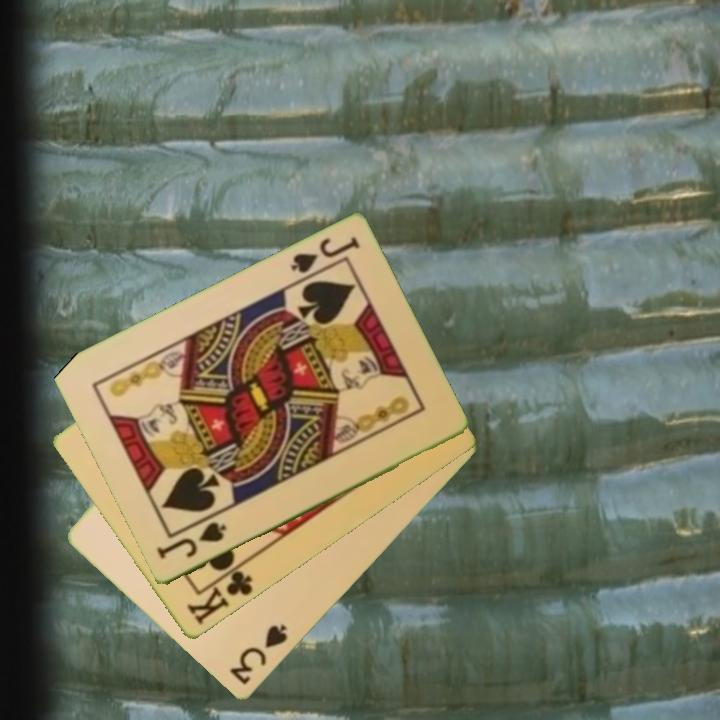3s: (226, 621, 291, 689)
Js: (287, 233, 363, 277), (154, 519, 229, 563)
Kc: (183, 559, 256, 628)
